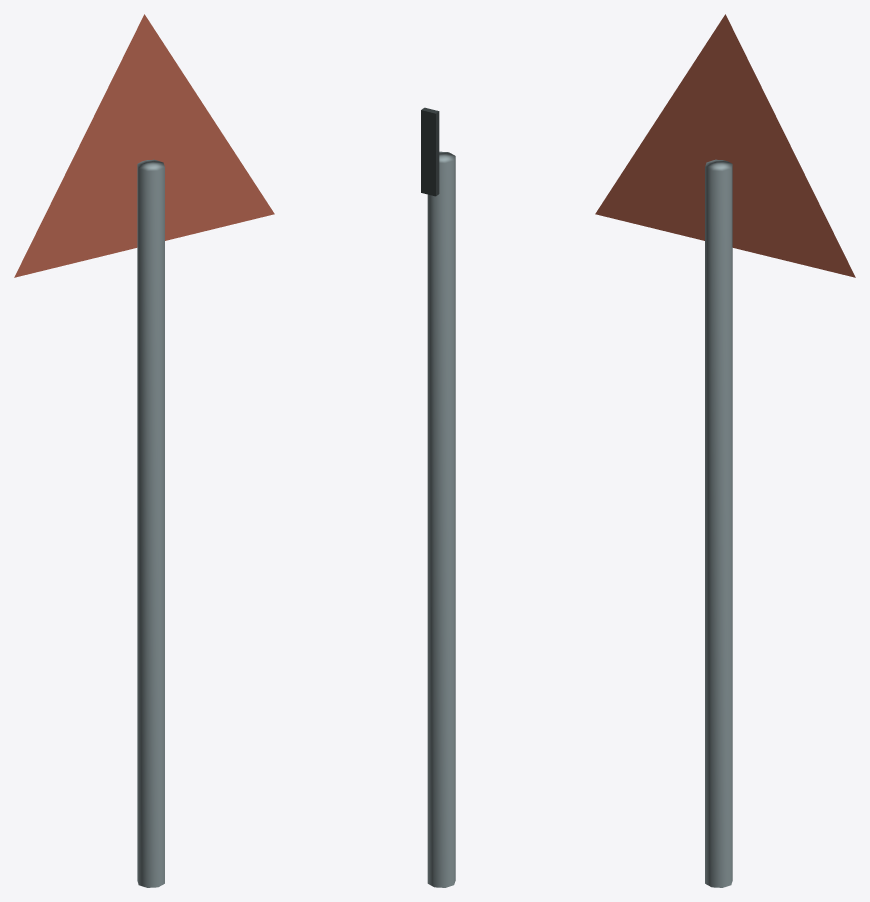
File: road_sign_warning.glb
3 views of the same model, side by side, from view 1: azimuth 30°, elevation 25°; view 2: azimuth 150°, elevation 25°; view 3: azimuth 330°, elevation 25° (orthographic).
Visible parts, largest first — view 1: warning_triangle, pole; view 2: pole, exclamation; view 3: warning_triangle, pole.
Boxes of the visible parts, box(x1,y1,x2,y2) form: warning_triangle: box(14, 14, 274, 277); pole: box(137, 159, 164, 887); pole: box(427, 151, 455, 887); exclamation: box(421, 107, 439, 196); warning_triangle: box(595, 14, 855, 277); pole: box(705, 159, 732, 887).
Size of the model in its own units: 0.8 by 2.53 by 0.107.
